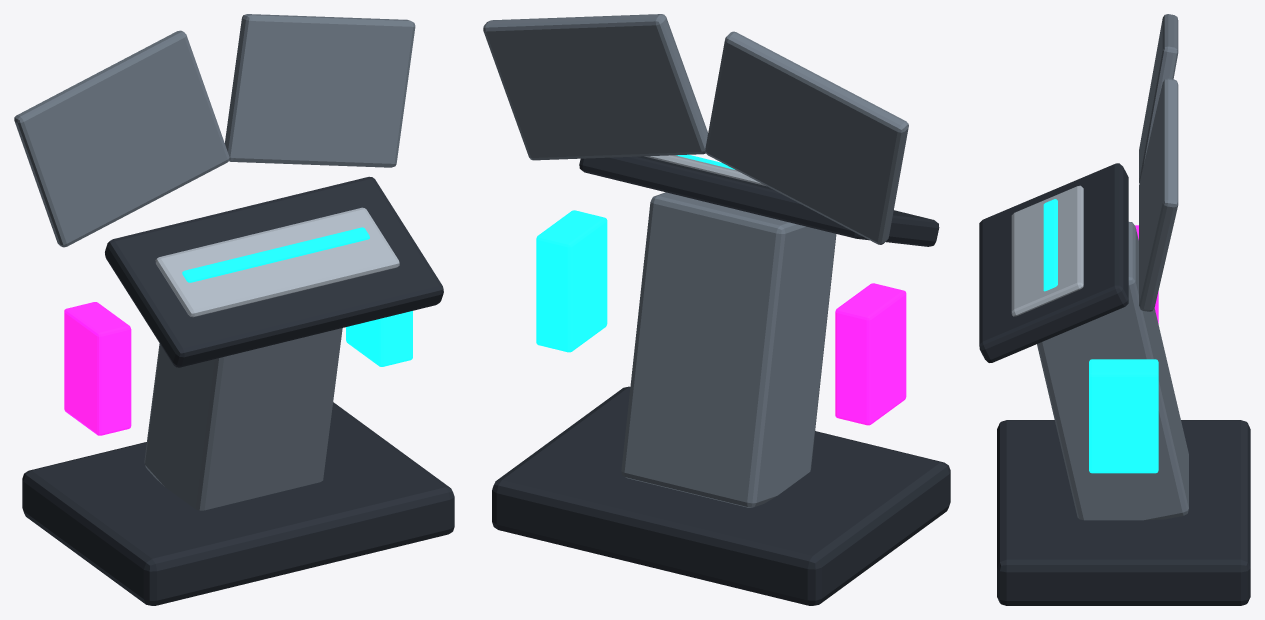
The model's file is command_terminal_kiosk.glb.
The picture shows the model from 3 angles, left to right: view 1: azimuth 30°, elevation 25°; view 2: azimuth 150°, elevation 25°; view 3: azimuth 270°, elevation 25°; orthographic projection. The views are drawn at different scales.
Parts seen in each view (by area): view 1: Kiosk_Base, Screen_Left_Frame, Kiosk_Spine, Screen_Right_Frame, Desk_Tray, Keyboard_Deck, Data_Cartridge_L, Data_Cartridge_R, KeyRow_1; view 2: Kiosk_Spine, Kiosk_Base, Screen_Right_Frame, Screen_Left_Frame, Data_Cartridge_L, Data_Cartridge_R, Desk_Tray, Keyboard_Deck; view 3: Kiosk_Base, Kiosk_Spine, Desk_Tray, Data_Cartridge_R, Screen_Right_Frame, Keyboard_Deck, Screen_Left_Frame, KeyRow_1.
Part boxes in pixels (box(x1,y1,x2,y2)): Kiosk_Base: box(22, 402, 454, 605); Screen_Left_Frame: box(14, 30, 229, 247); Kiosk_Spine: box(144, 328, 342, 510); Screen_Right_Frame: box(225, 14, 415, 167); Desk_Tray: box(105, 176, 443, 367); Keyboard_Deck: box(155, 207, 399, 317); Data_Cartridge_L: box(64, 302, 131, 435); Data_Cartridge_R: box(346, 311, 412, 366); KeyRow_1: box(182, 227, 369, 282); Kiosk_Spine: box(621, 192, 836, 507); Kiosk_Base: box(492, 386, 950, 605); Screen_Right_Frame: box(483, 14, 707, 160); Screen_Left_Frame: box(705, 31, 908, 244); Data_Cartridge_L: box(835, 283, 906, 425); Data_Cartridge_R: box(536, 210, 607, 352); Desk_Tray: box(579, 156, 939, 246); Keyboard_Deck: box(644, 155, 766, 186); Kiosk_Base: box(997, 420, 1250, 605); Kiosk_Spine: box(1037, 222, 1188, 520); Desk_Tray: box(979, 163, 1128, 362); Data_Cartridge_R: box(1089, 359, 1158, 473); Screen_Right_Frame: box(1139, 78, 1178, 311); Keyboard_Deck: box(1011, 185, 1083, 316); Screen_Left_Frame: box(1139, 14, 1178, 183); KeyRow_1: box(1043, 199, 1057, 291).
Bounding box in the file's own units: 1.41 × 1.65 × 0.8557.
